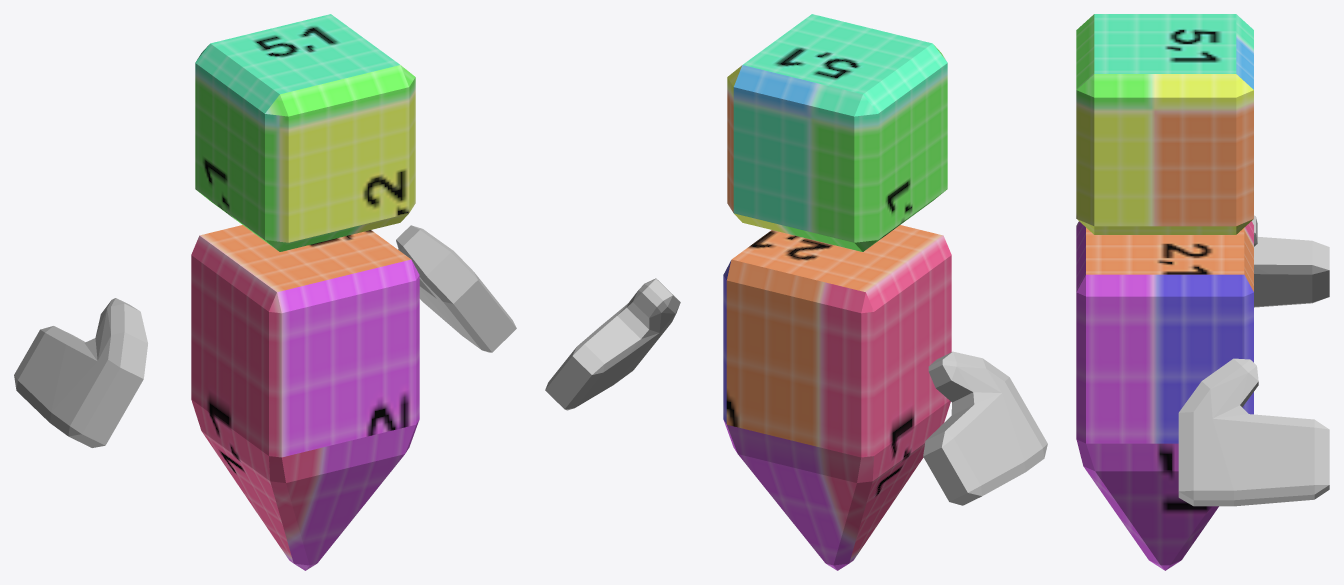
File: Boss.obj
The picture shows the model from 3 angles, left to right: view 1: azimuth 30°, elevation 25°; view 2: azimuth 150°, elevation 25°; view 3: azimuth 270°, elevation 25°; orthographic projection.
Parts seen in each view (by area): view 1: Cube, Cube.003, 立方体.002, 立方体.001; view 2: Cube, Cube.003, 立方体.002, 立方体.001; view 3: Cube, Cube.003, 立方体.001, 立方体.002.
Boxes of the visible parts, left/top/right/bottom form: Cube: left=191, top=225, right=419, bottom=570; Cube.003: left=195, top=14, right=415, bottom=251; 立方体.002: left=14, top=298, right=147, bottom=447; 立方体.001: left=396, top=225, right=516, bottom=352; Cube: left=723, top=225, right=951, bottom=570; Cube.003: left=727, top=14, right=947, bottom=251; 立方体.002: left=923, top=351, right=1047, bottom=505; 立方体.001: left=545, top=278, right=680, bottom=410; Cube: left=1076, top=221, right=1253, bottom=570; Cube.003: left=1076, top=14, right=1253, bottom=234; 立方体.001: left=1178, top=358, right=1329, bottom=506; 立方体.002: left=1252, top=215, right=1329, bottom=307.
Size of the model in its own units: 11.79 by 13.1 by 5.7.
